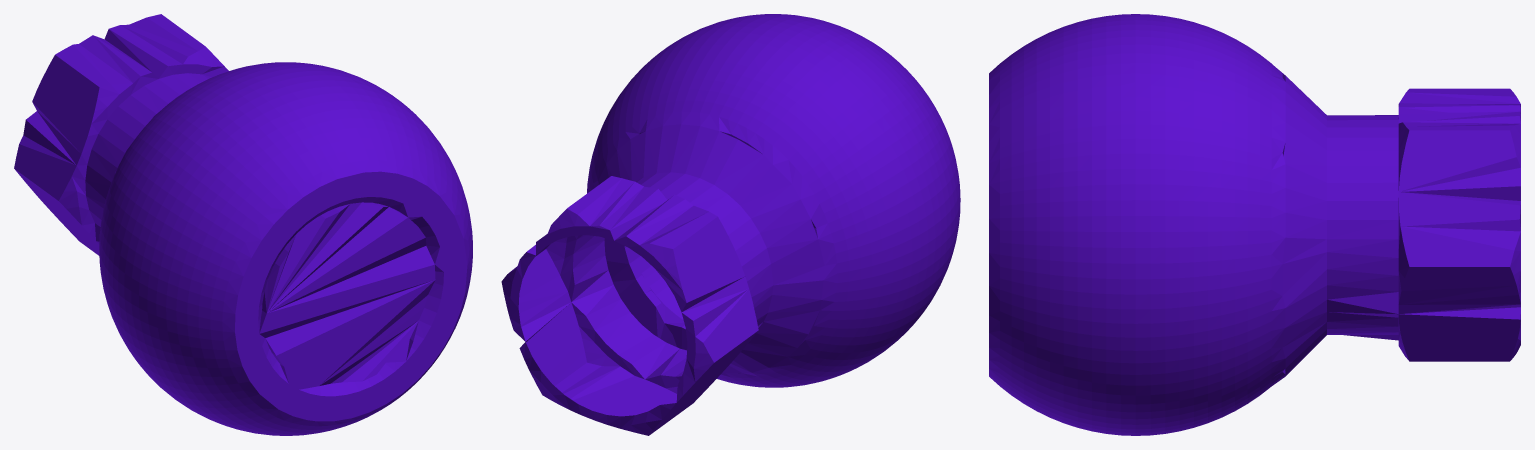
File: Carriage1_lh.OBJ
3 renders of one model, left to right at view 1: azimuth 30°, elevation 25°; view 2: azimuth 150°, elevation 25°; view 3: azimuth 270°, elevation 25°, orthographic. The views are drawn at different scales.
Parts seen in each view (by area): view 1: /ambf/env/Carriage1_lh_Carriage1_lh; view 2: /ambf/env/Carriage1_lh_Carriage1_lh; view 3: /ambf/env/Carriage1_lh_Carriage1_lh.
Part boxes in pixels (x1=…): /ambf/env/Carriage1_lh_Carriage1_lh: x1=14, y1=14, x2=472, y2=435; /ambf/env/Carriage1_lh_Carriage1_lh: x1=501, y1=14, x2=960, y2=435; /ambf/env/Carriage1_lh_Carriage1_lh: x1=989, y1=14, x2=1520, y2=435.
Bounding box in the file's own units: 0.0183 × 0.0183 × 0.023.
